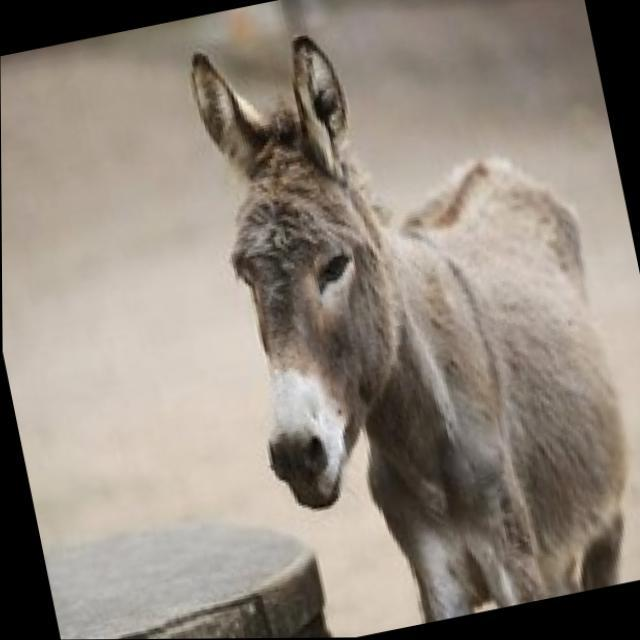Donkey: (183, 0, 640, 639)
